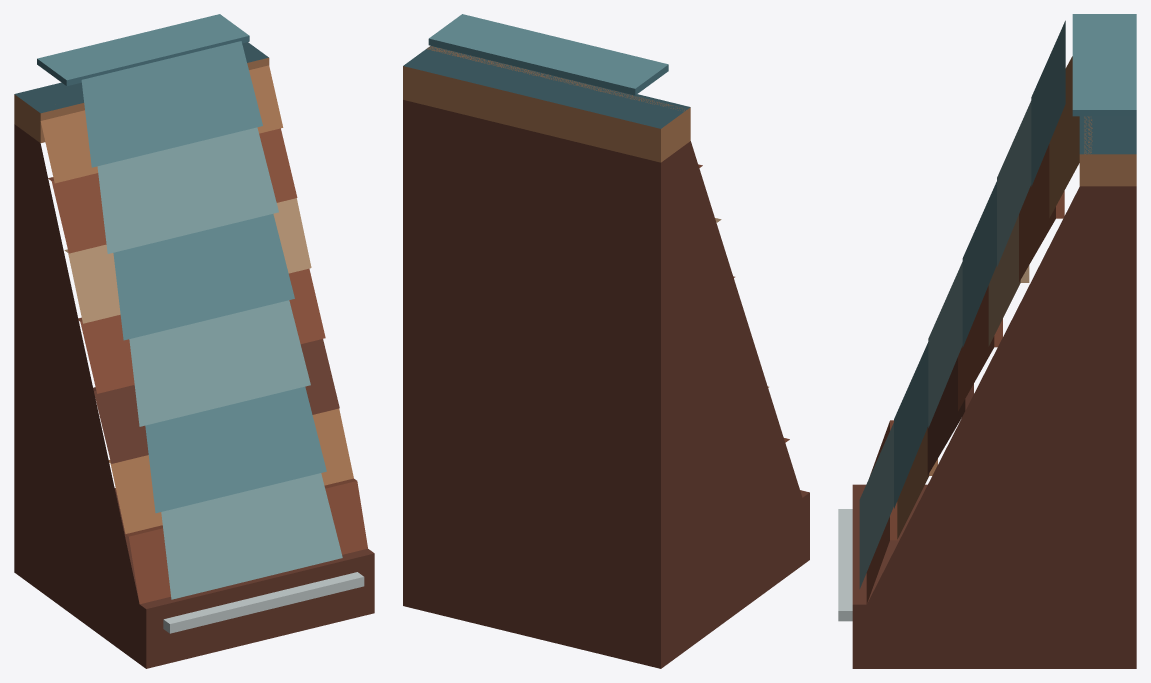
The model's file is t_waterfall.glb.
The picture shows the model from 3 angles, left to right: view 1: azimuth 30°, elevation 25°; view 2: azimuth 150°, elevation 25°; view 3: azimuth 270°, elevation 25°; orthographic projection. The views are drawn at different scales.
Visible parts, largest first — view 1: t_waterfall_water, t_waterfall; view 2: t_waterfall, t_waterfall_water; view 3: t_waterfall, t_waterfall_water.
Part boxes in pixels (x1,y1,x2,y2): t_waterfall_water: (37, 14, 364, 633); t_waterfall: (14, 42, 374, 668); t_waterfall: (403, 46, 809, 668); t_waterfall_water: (428, 14, 668, 95); t_waterfall: (852, 56, 1136, 668); t_waterfall_water: (838, 14, 1136, 621).
Bounding box in the file's own units: 2 × 4.25 × 2.1.
